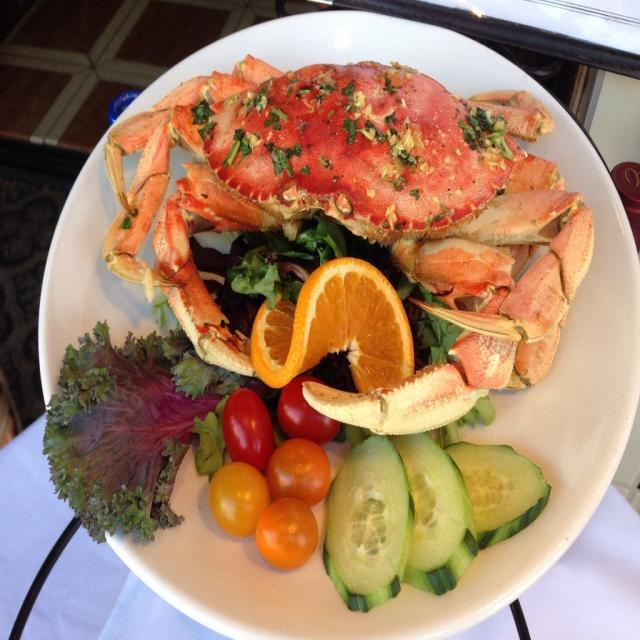ceramic plate: (38, 13, 640, 640)
